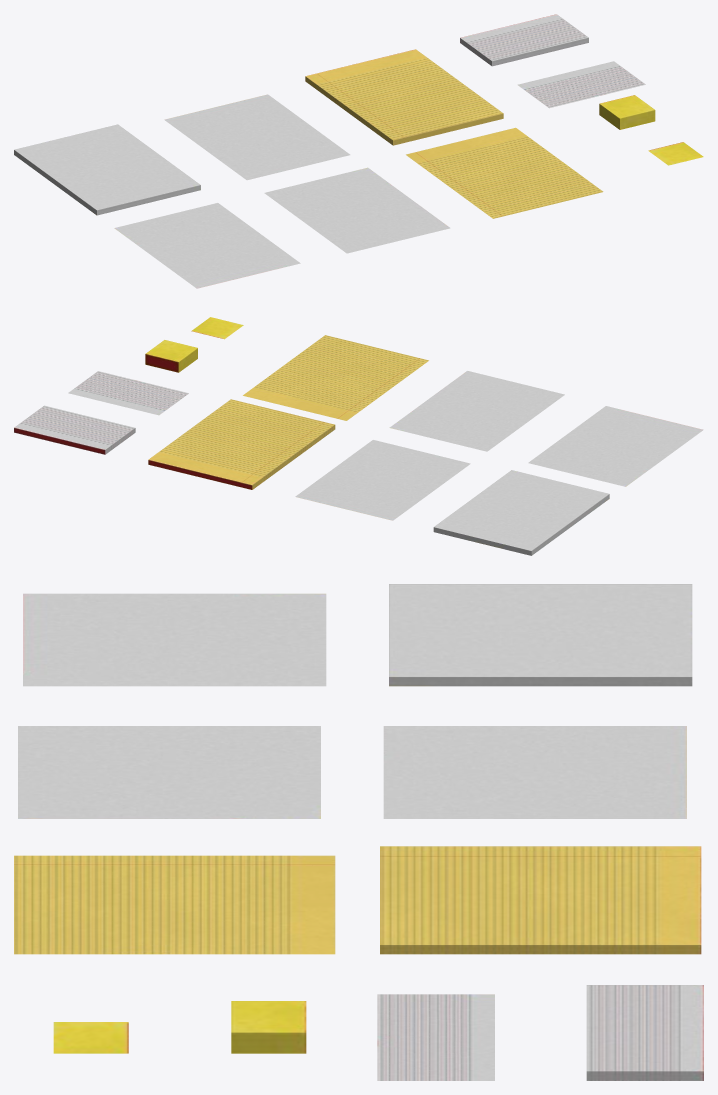
The model's file is office_notepads.glb.
3 views of the same model, one above another, from view 1: azimuth 30°, elevation 25°; view 2: azimuth 150°, elevation 25°; view 3: azimuth 270°, elevation 25° (orthographic). The views are drawn at different scales.
Visible parts, largest first — view 1: office_notepads_yellow_pad, office_notepads_yellow_sheet, office_notepads_a4_stack, office_notepads_a4_a, office_notepads_a4_c, office_notepads_a4_b, office_notepads_note_stack, office_notepads_note_sheet, office_notepads_sticky_stack, office_notepads_sticky_sheet; view 2: office_notepads_yellow_pad, office_notepads_yellow_sheet, office_notepads_a4_stack, office_notepads_a4_b, office_notepads_a4_c, office_notepads_a4_a, office_notepads_note_stack, office_notepads_note_sheet, office_notepads_sticky_stack, office_notepads_sticky_sheet; view 3: office_notepads_yellow_pad, office_notepads_yellow_sheet, office_notepads_a4_stack, office_notepads_a4_a, office_notepads_a4_b, office_notepads_a4_c, office_notepads_note_stack, office_notepads_note_sheet, office_notepads_sticky_stack, office_notepads_sticky_sheet.
Boxes of the visible parts, x1,y1,x2,y2 form: office_notepads_yellow_pad: [305, 49, 503, 145]; office_notepads_yellow_sheet: [406, 127, 603, 218]; office_notepads_a4_stack: [14, 124, 200, 215]; office_notepads_a4_a: [114, 203, 300, 288]; office_notepads_a4_c: [264, 167, 450, 253]; office_notepads_a4_b: [164, 94, 350, 180]; office_notepads_note_stack: [460, 14, 588, 66]; office_notepads_note_sheet: [517, 61, 645, 108]; office_notepads_sticky_stack: [599, 95, 655, 129]; office_notepads_sticky_sheet: [648, 142, 703, 165]; office_notepads_yellow_pad: [148, 399, 335, 489]; office_notepads_yellow_sheet: [243, 335, 428, 420]; office_notepads_a4_stack: [433, 470, 609, 555]; office_notepads_a4_b: [295, 440, 470, 520]; office_notepads_a4_c: [389, 371, 564, 451]; office_notepads_a4_a: [528, 406, 703, 486]; office_notepads_note_stack: [14, 405, 135, 454]; office_notepads_note_sheet: [68, 371, 188, 415]; office_notepads_sticky_stack: [145, 340, 197, 372]; office_notepads_sticky_sheet: [191, 317, 243, 339]; office_notepads_yellow_pad: [380, 846, 701, 954]; office_notepads_yellow_sheet: [14, 855, 335, 954]; office_notepads_a4_stack: [389, 584, 692, 686]; office_notepads_a4_a: [23, 593, 326, 686]; office_notepads_a4_b: [383, 726, 686, 818]; office_notepads_a4_c: [18, 726, 320, 818]; office_notepads_note_stack: [586, 985, 703, 1080]; office_notepads_note_sheet: [377, 994, 494, 1080]; office_notepads_sticky_stack: [231, 1001, 306, 1053]; office_notepads_sticky_sheet: [53, 1022, 128, 1053].
Bounding box in the file's own units: 1.1 × 0.022 × 0.6598.
Materials: 1 (1 with a texture image).
